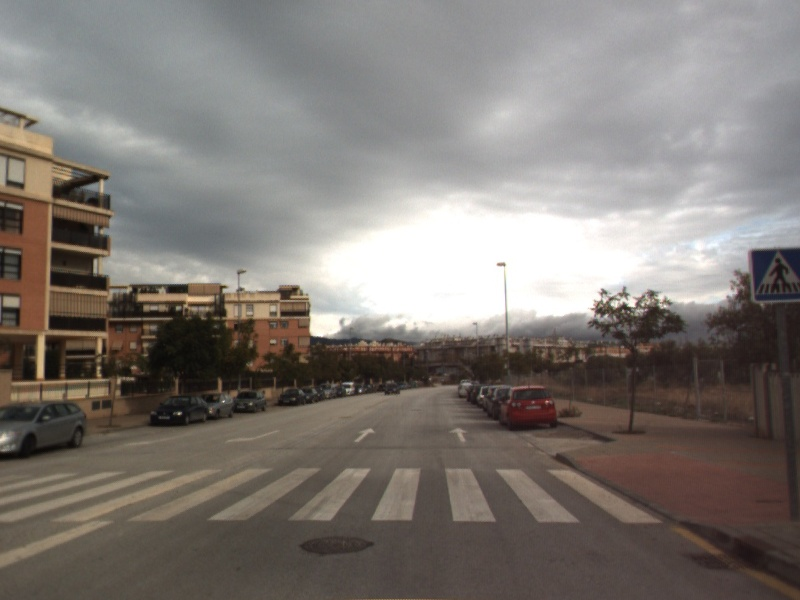STRAIGHT: (447, 425, 471, 444), (352, 426, 377, 444)
